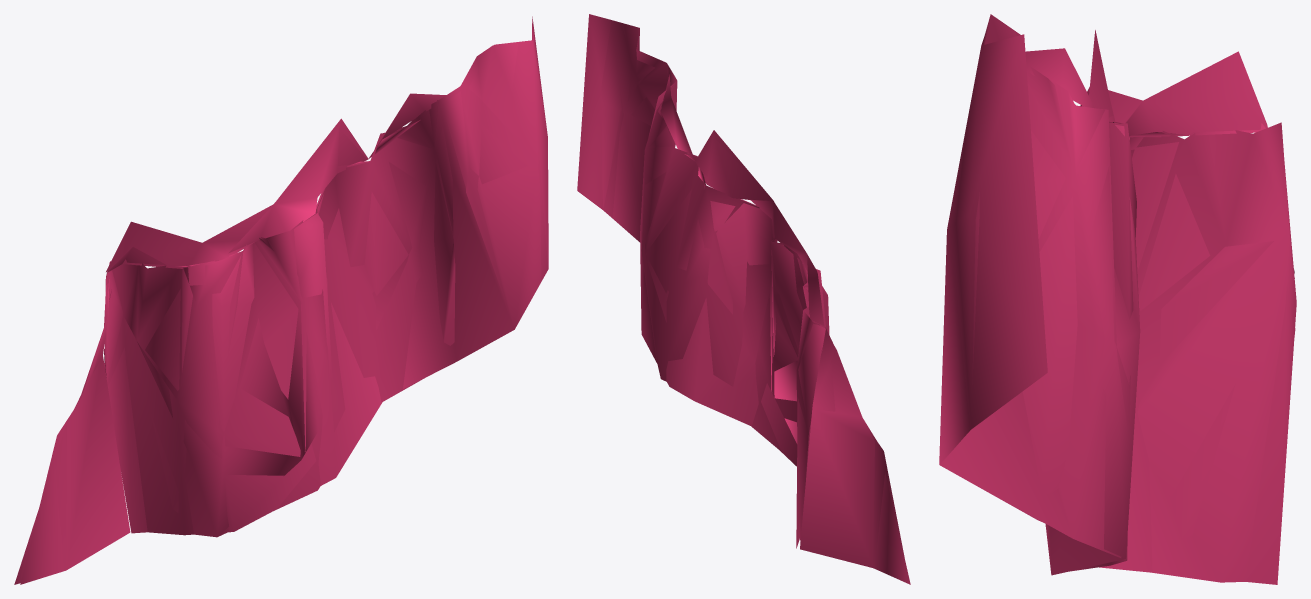
The model's file is Cloth.fbx.
The picture shows the model from 3 angles, left to right: view 1: azimuth 30°, elevation 25°; view 2: azimuth 150°, elevation 25°; view 3: azimuth 270°, elevation 25°; orthographic projection. The views are drawn at different scales.
Visible parts, largest first — view 1: Cloth; view 2: Cloth; view 3: Cloth.
Boxes of the visible parts, x1,y1,x2,y2 form: Cloth: (14, 16, 548, 584); Cloth: (577, 14, 910, 584); Cloth: (939, 14, 1296, 584).
Bounding box in the file's own units: 45.13 × 48.54 × 18.86.
